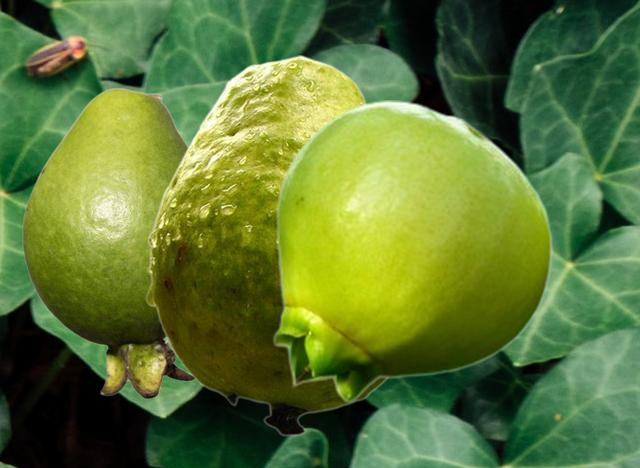guava: (145, 55, 387, 436), (272, 100, 552, 402), (22, 87, 194, 398)
